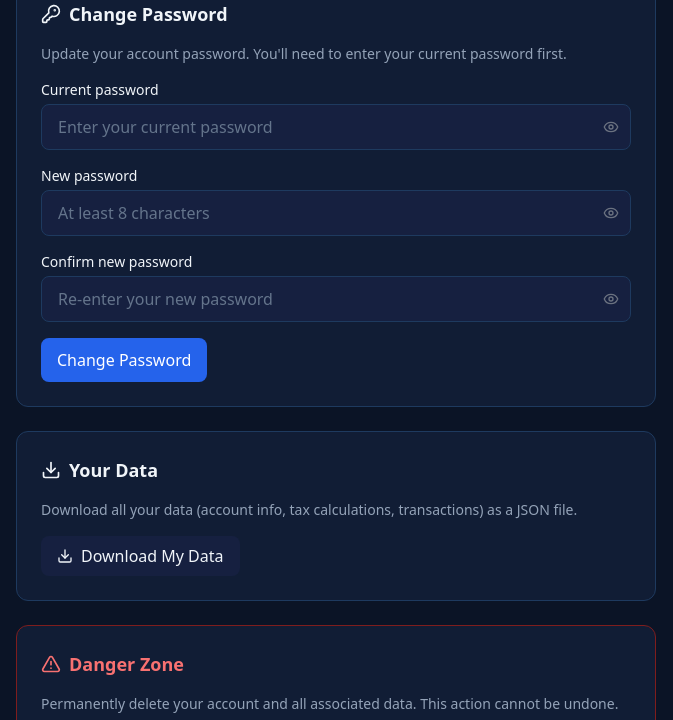
Test case: SettingsPage - change password validation › blocks submit and shows field errors when all fields are empty
(page scrolled)
Click the button "Change Password" at x=124, y=360, box left=41, top=338, right=207, bottom=382
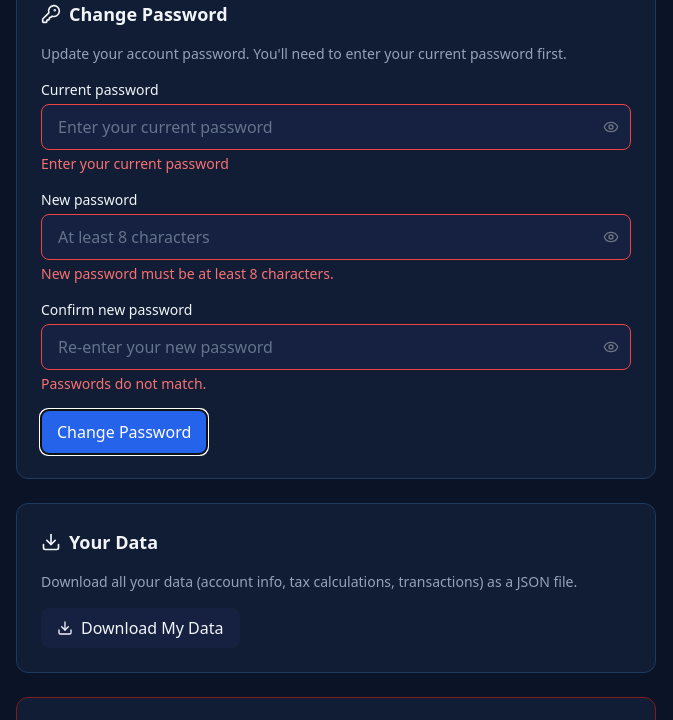
expect the text "Enter your current password" is shown: met, box left=41, top=154, right=229, bottom=173
expect the text "New password must be at least 8 characters." is shown: met, box left=41, top=264, right=334, bottom=283
expect the text "Passwords do not match." is shown: met, box left=41, top=374, right=206, bottom=393
